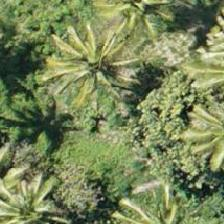coconut_tree: (46, 16, 136, 106), (0, 169, 87, 223), (175, 87, 223, 177)
